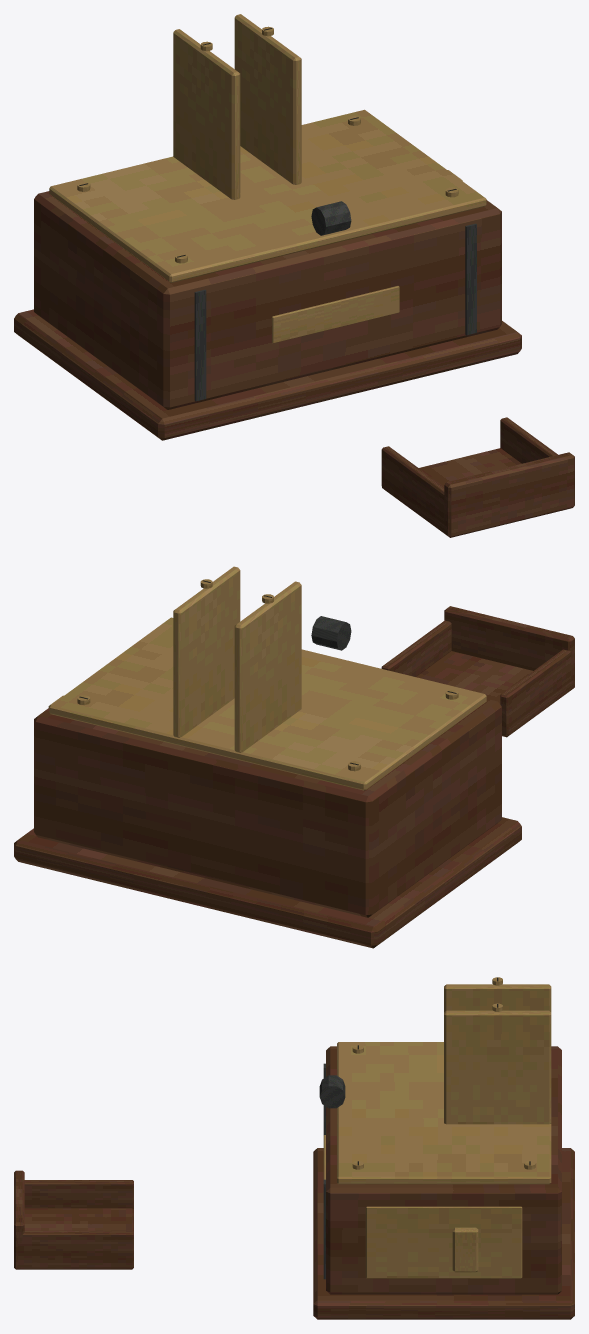
The model's file is register_static.glb.
3 renders of one model, top to bottom at view 1: azimuth 30°, elevation 25°; view 2: azimuth 150°, elevation 25°; view 3: azimuth 270°, elevation 25°, orthographic. The views are drawn at different scales.
Parts seen in each view (by area): view 1: register_static; view 2: register_static; view 3: register_static.
Boxes of the visible parts, box(x1,y1,x2,y2) form: register_static: box(14, 14, 574, 537); register_static: box(14, 566, 574, 948); register_static: box(14, 977, 574, 1319).
Bounding box in the file's own units: 0.181 × 0.1291 × 0.2615.
Materials: 4 (4 with a texture image).
